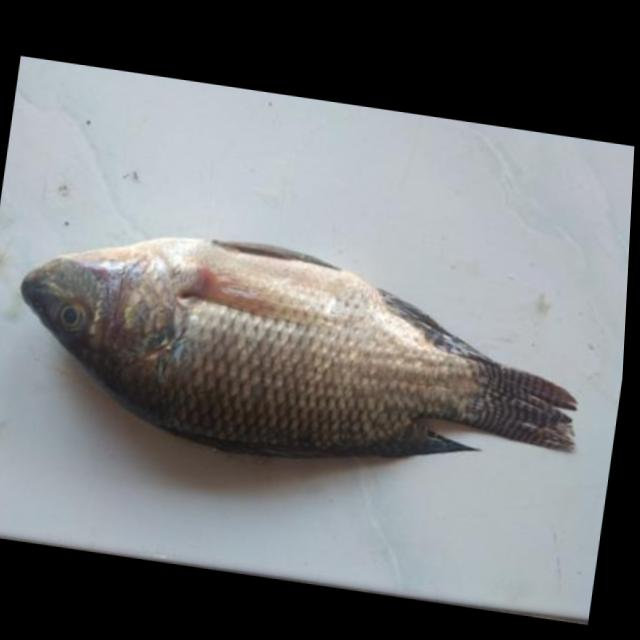Tilapia: (0, 203, 601, 498)
